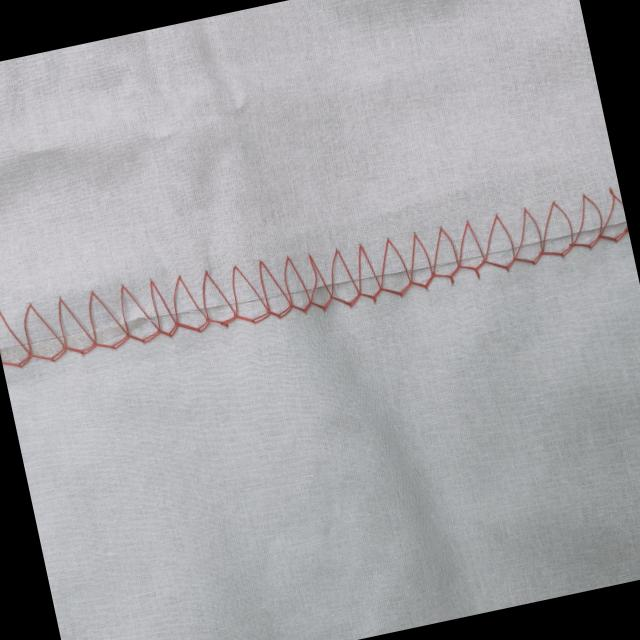gray stitch: (0, 168, 632, 380)
